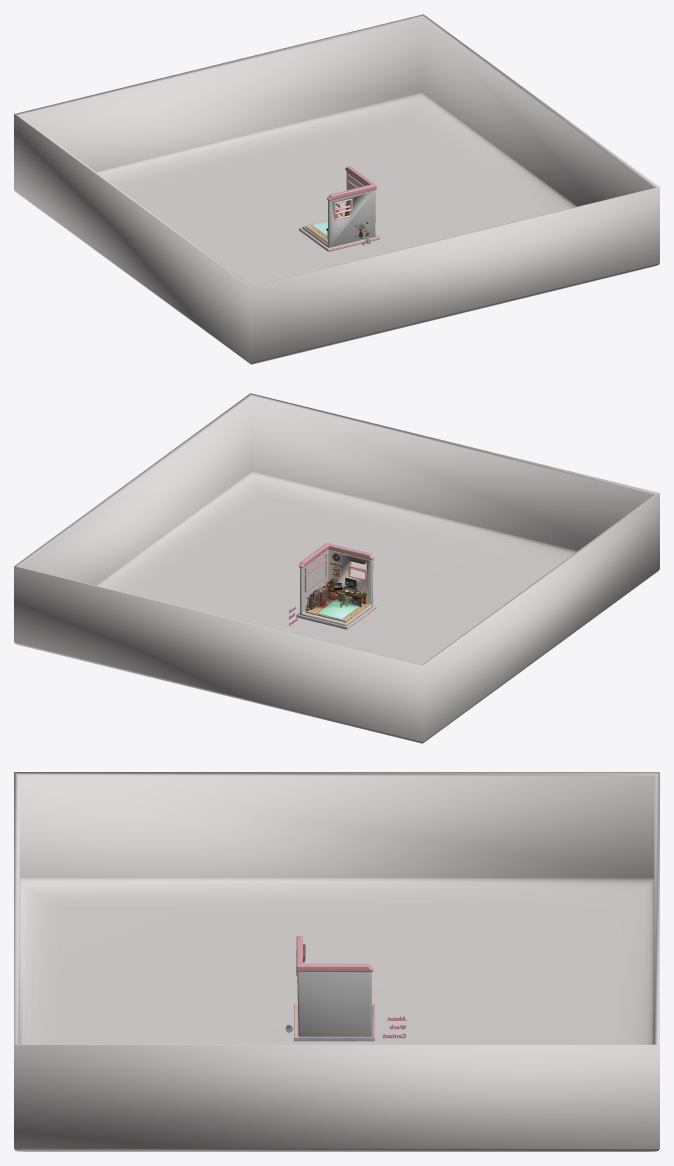
3 views of the same model, one above another, from view 1: azimuth 30°, elevation 25°; view 2: azimuth 150°, elevation 25°; view 3: azimuth 270°, elevation 25° (orthographic). The views are drawn at different scales.
Parts seen in each view (by area): view 1: Plane.011, Room.001, Plane.046; view 2: Plane.011, Room.001, Plane.046; view 3: Plane.011, Room.001, Plane.046, Plane.047.
Boxes of the visible parts, box(x1,y1,x2,y2) form: Plane.011: box(14, 14, 659, 364); Room.001: box(302, 171, 375, 247); Plane.046: box(327, 166, 376, 200); Plane.011: box(14, 393, 659, 743); Room.001: box(300, 549, 373, 625); Plane.046: box(299, 543, 373, 568); Plane.011: box(14, 772, 659, 1151); Room.001: box(297, 972, 371, 1036); Plane.046: box(296, 936, 373, 971); Plane.047: box(294, 1004, 374, 1041).
Size of the model in its own units: 50.97 by 10.16 by 50.97.
41 materials, 33 textured.
